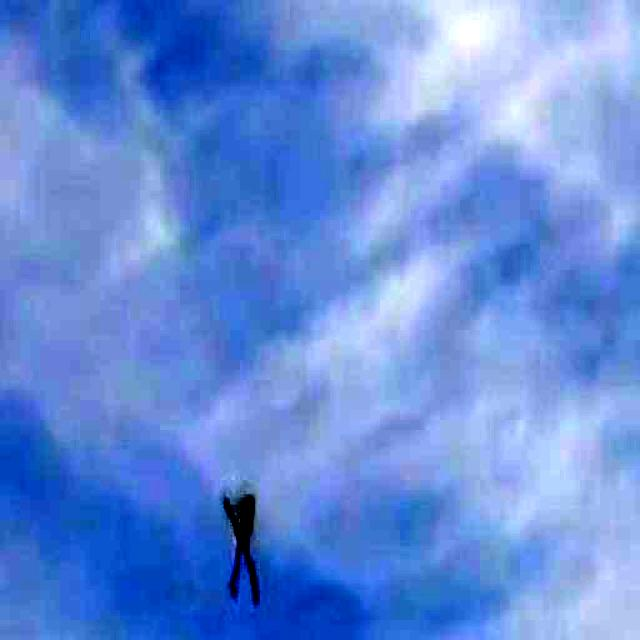drone: (219, 480, 268, 610)
